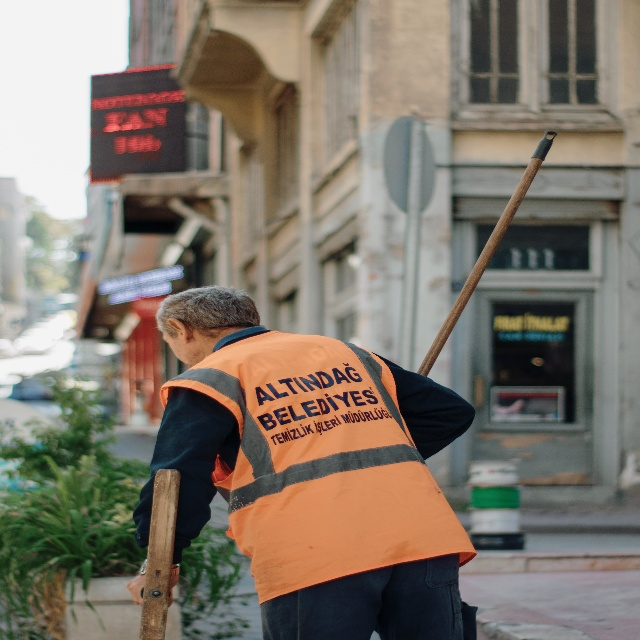Sin_guantes: (125, 564, 182, 614)
